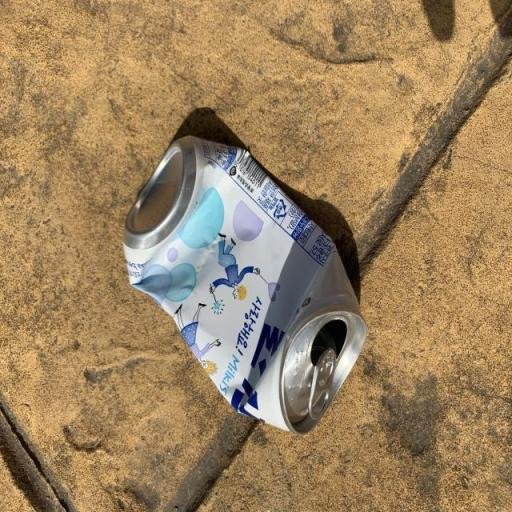metal: (107, 110, 377, 446)
